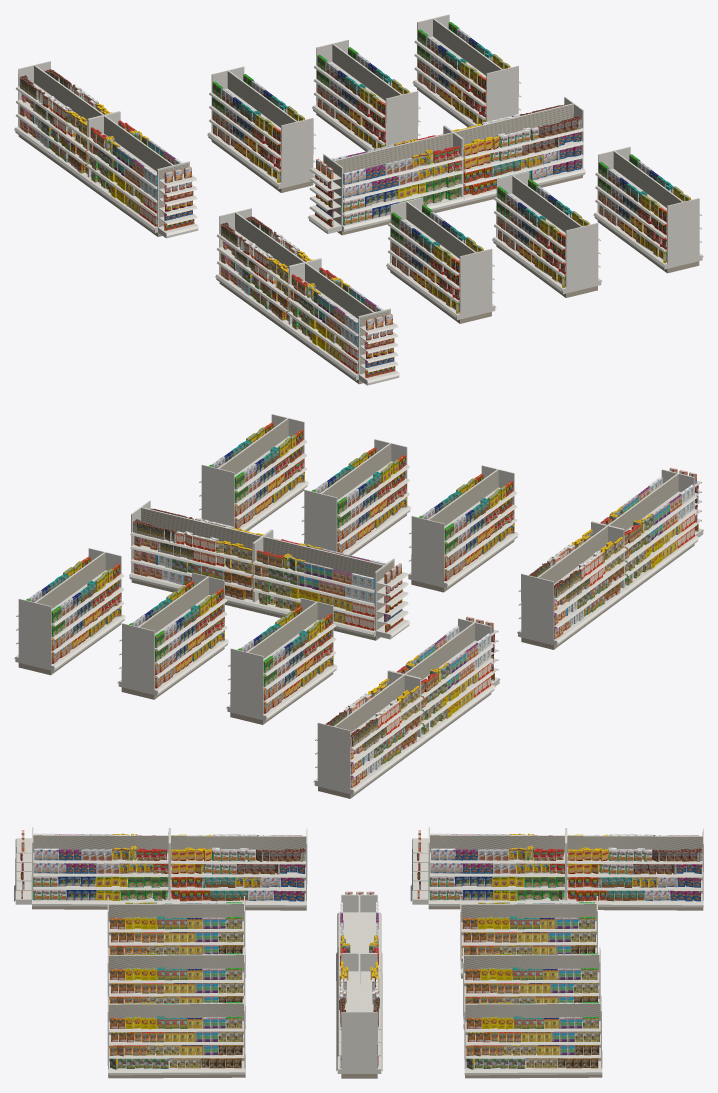
File: aisle_lane.glb
3 renders of one model, top to bottom at view 1: azimuth 30°, elevation 25°; view 2: azimuth 150°, elevation 25°; view 3: azimuth 270°, elevation 25°, orthographic. The views are drawn at different scales.
Parts seen in each view (by area): view 1: aisle_4, aisle_8, aisle_9, aisle_3, aisle_1, aisle_2, aisle_7, aisle_5, aisle_6; view 2: aisle_4, aisle_9, aisle_8, aisle_5, aisle_7, aisle_3, aisle_6, aisle_1, aisle_2; view 3: aisle_8, aisle_9, aisle_1, aisle_5, aisle_4, aisle_7, aisle_3, aisle_2, aisle_6.
Boxes of the visible parts, left/top/right/bottom form: aisle_4: left=308, top=97, right=585, bottom=235; aisle_8: left=215, top=208, right=399, bottom=385; aisle_9: left=14, top=61, right=198, bottom=238; aisle_3: left=386, top=197, right=496, bottom=323; aisle_1: left=593, top=146, right=703, bottom=273; aisle_2: left=492, top=171, right=602, bottom=297; aisle_7: left=207, top=66, right=315, bottom=192; aisle_5: left=412, top=14, right=521, bottom=126; aisle_6: left=312, top=39, right=420, bottom=151; aisle_4: left=129, top=500, right=410, bottom=640; aisle_9: left=313, top=616, right=500, bottom=798; aisle_8: left=517, top=467, right=703, bottom=649; aisle_5: left=14, top=548, right=125, bottom=675; aisle_7: left=226, top=597, right=337, bottom=724; aisle_3: left=408, top=465, right=518, bottom=592; aisle_6: left=117, top=572, right=228, bottom=699; aisle_1: left=199, top=414, right=308, bottom=530; aisle_2: left=301, top=439, right=411, bottom=555; aisle_8: left=14, top=827, right=307, bottom=910; aisle_9: left=410, top=827, right=703, bottom=910; aisle_1: left=107, top=995, right=245, bottom=1078; aisle_5: left=464, top=995, right=602, bottom=1078; aisle_4: left=336, top=891, right=382, bottom=1078; aisle_7: left=460, top=896, right=598, bottom=978; aisle_3: left=107, top=896, right=245, bottom=977; aisle_2: left=107, top=947, right=245, bottom=1028; aisle_6: left=463, top=947, right=600, bottom=1029.
Size of what is drawn, in the model's own units: 15.09 by 2.59 by 23.57.
Materials: 9 (7 with a texture image).
